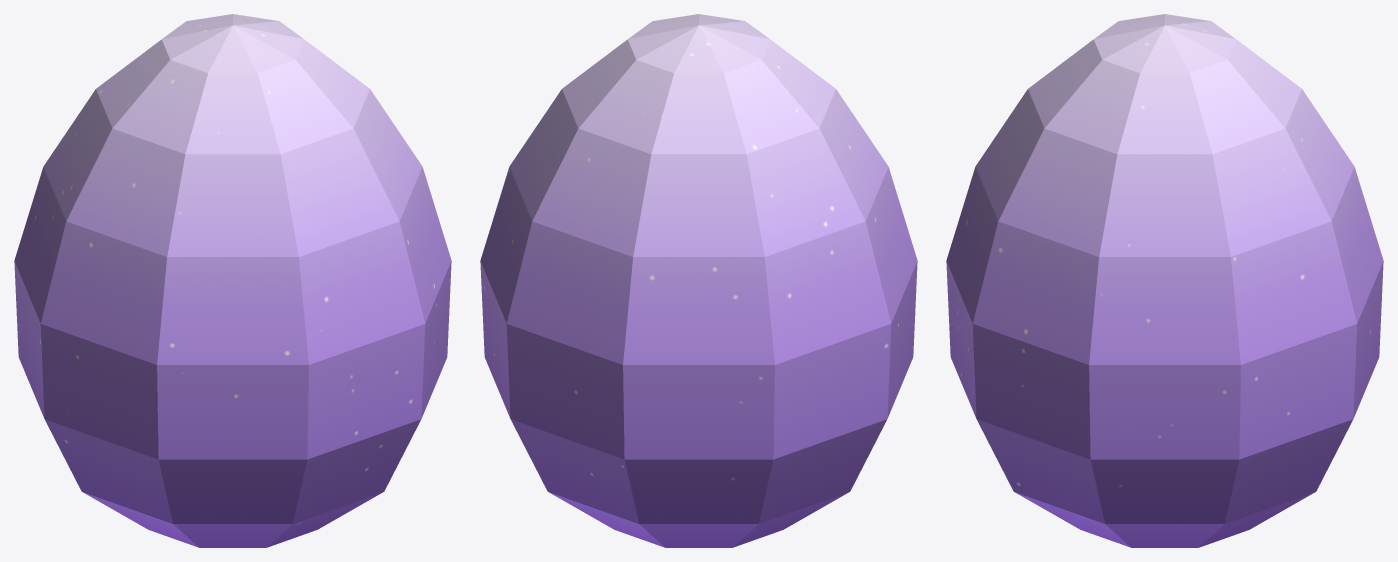
The model's file is Crystal Egg.fbx.
The picture shows the model from 3 angles, left to right: view 1: azimuth 30°, elevation 25°; view 2: azimuth 150°, elevation 25°; view 3: azimuth 270°, elevation 25°; orthographic projection.
Parts seen in each view (by area): view 1: Crystal Egg; view 2: Crystal Egg; view 3: Crystal Egg.
Boxes of the visible parts, x1=… form: Crystal Egg: x1=14, y1=14, x2=451, y2=547; Crystal Egg: x1=480, y1=14, x2=917, y2=547; Crystal Egg: x1=946, y1=14, x2=1383, y2=547.
Size of the model in its own units: 3.88 by 5 by 3.94.
Materials: 1 (1 with a texture image).
